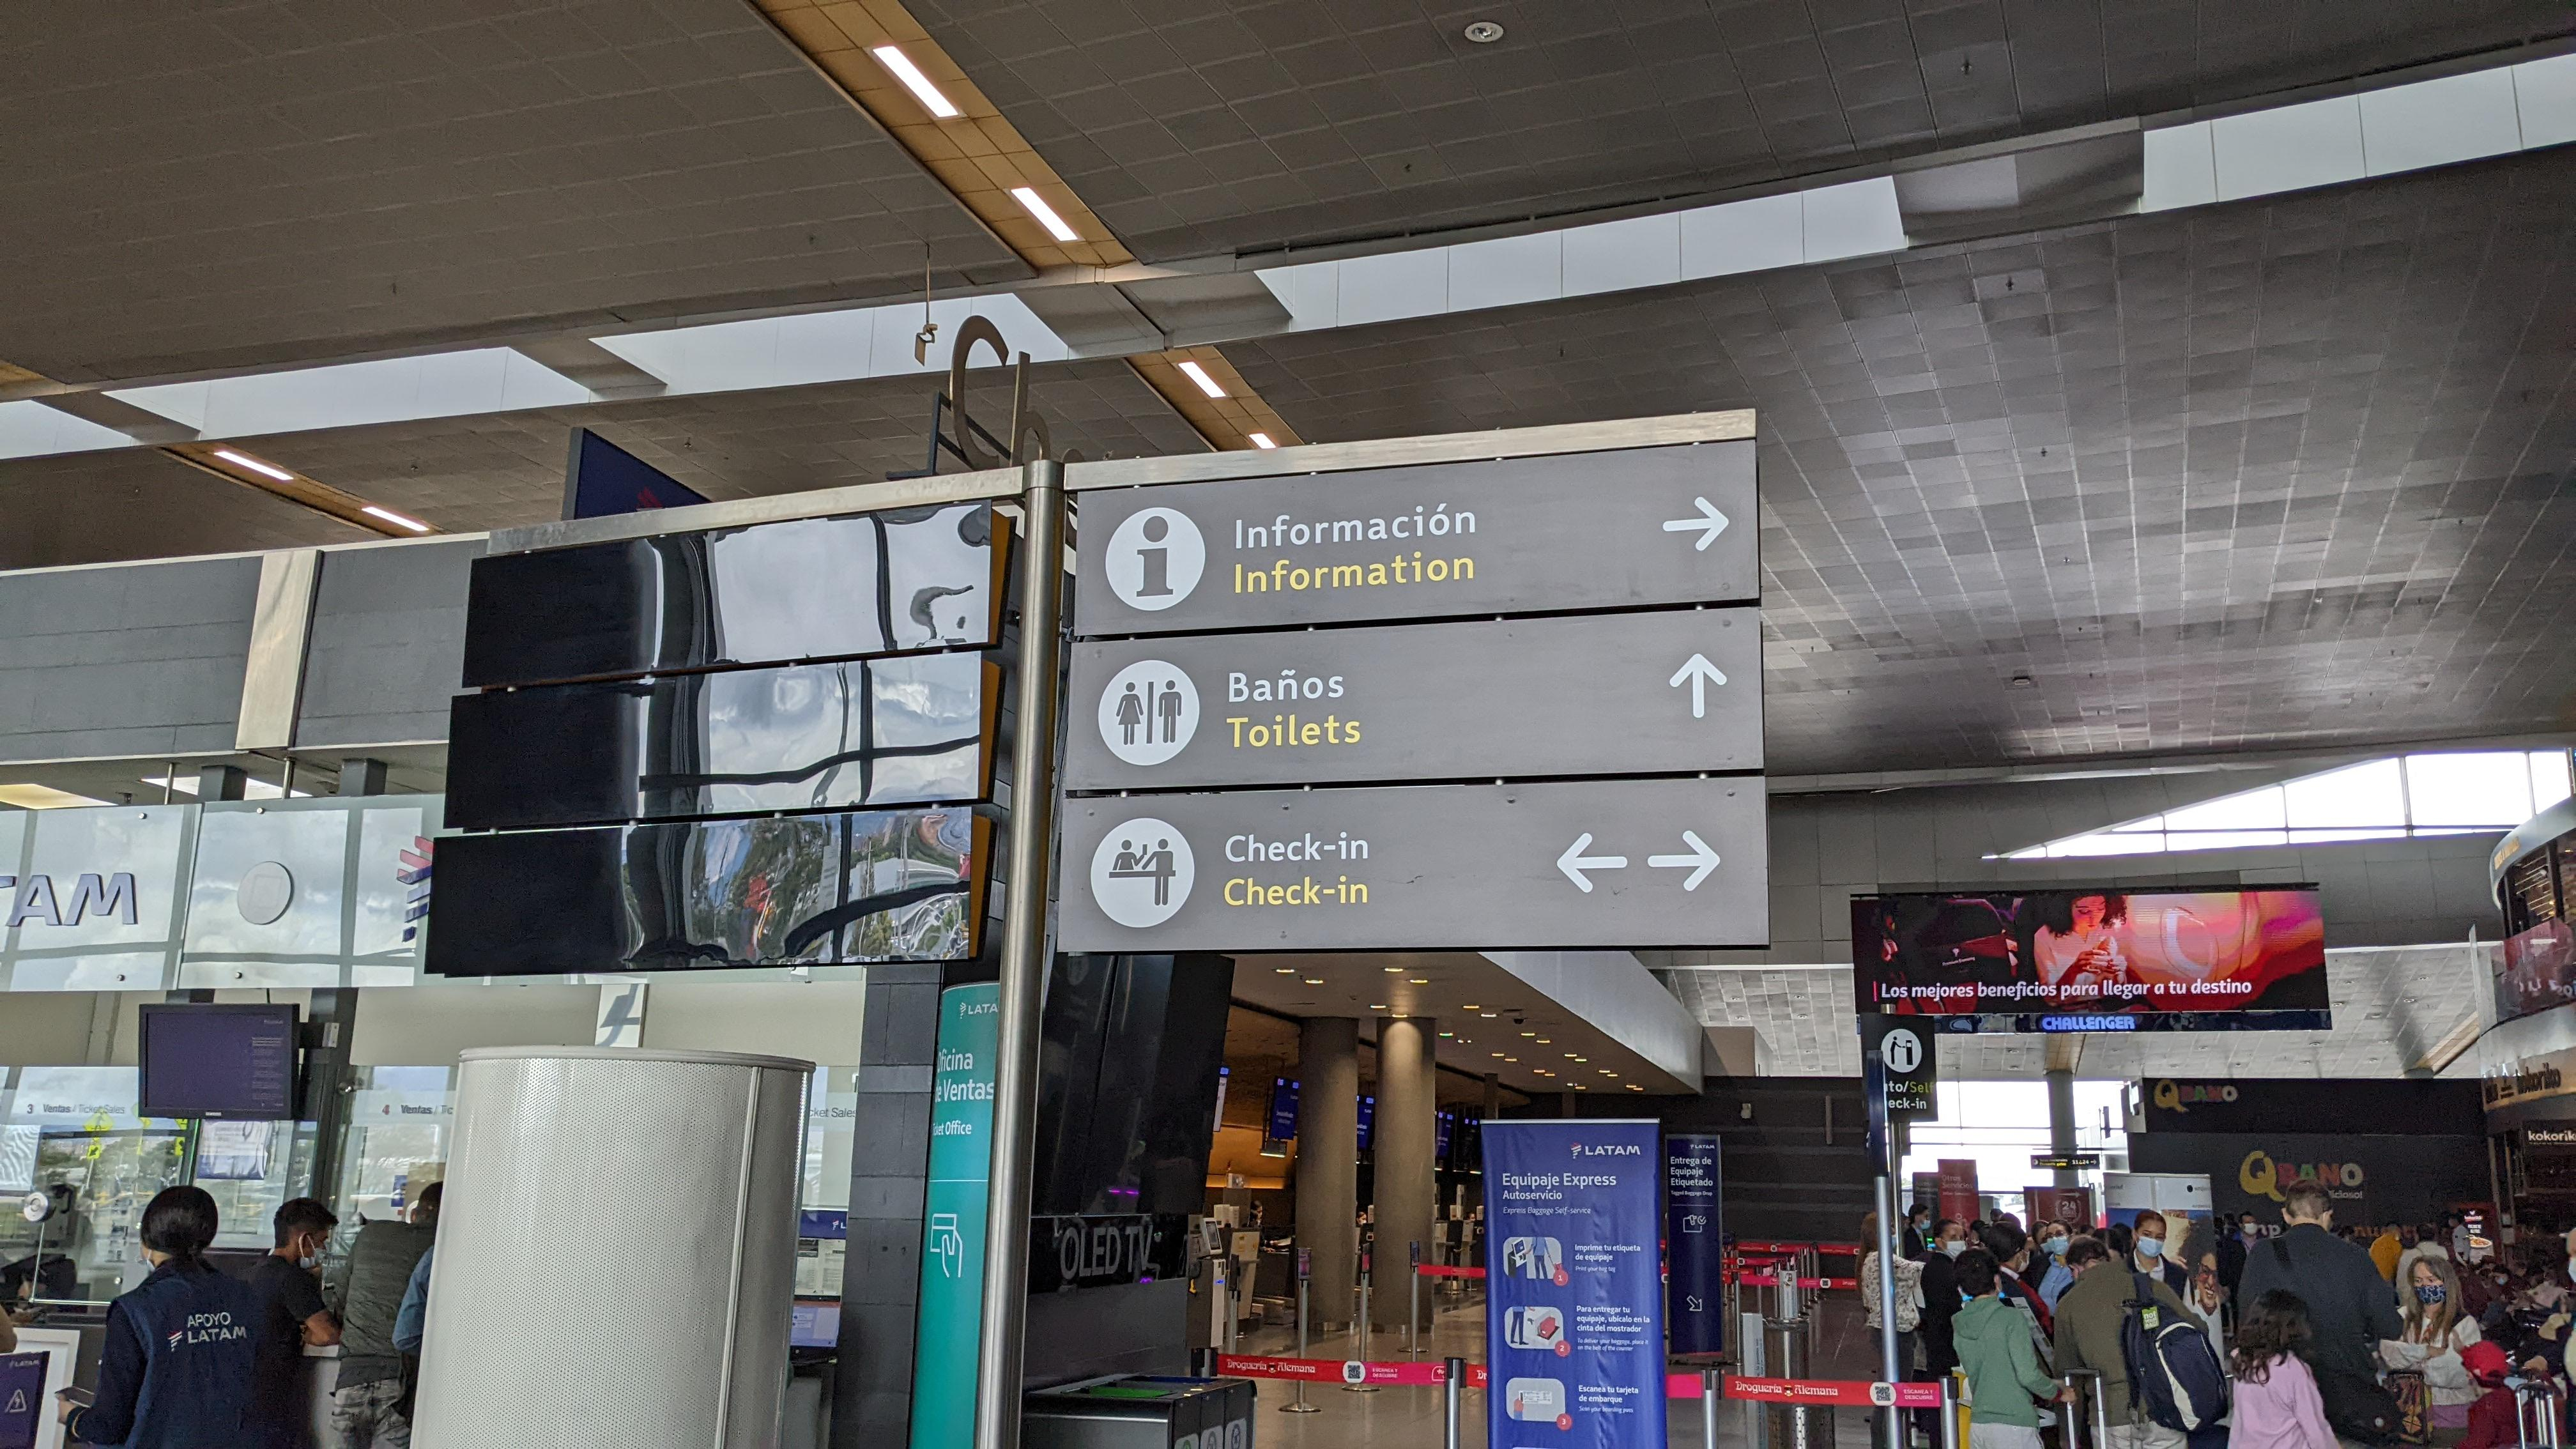bathrooms: (1116, 679, 1185, 747)
left arrow: (1555, 830, 1629, 897)
right arrow: (1644, 826, 1727, 895), (1660, 494, 1734, 559)
up arrow: (1668, 649, 1730, 720)
